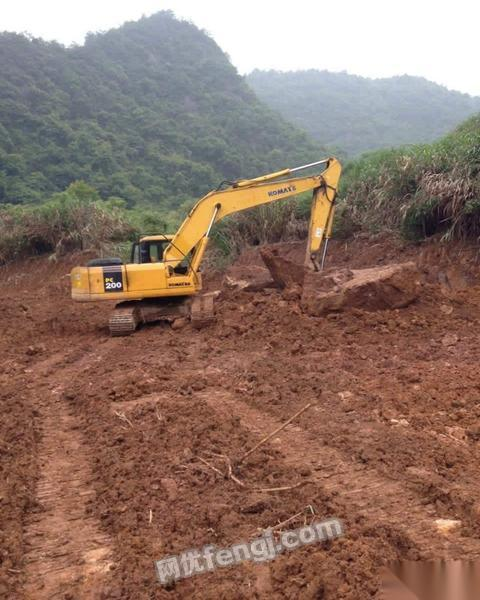excavator: (70, 151, 354, 345)
